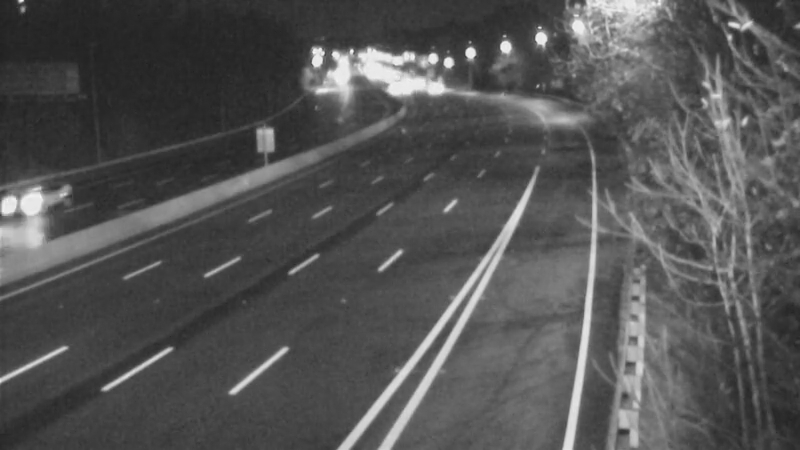vehicle: (1, 168, 72, 248), (408, 62, 458, 112)
